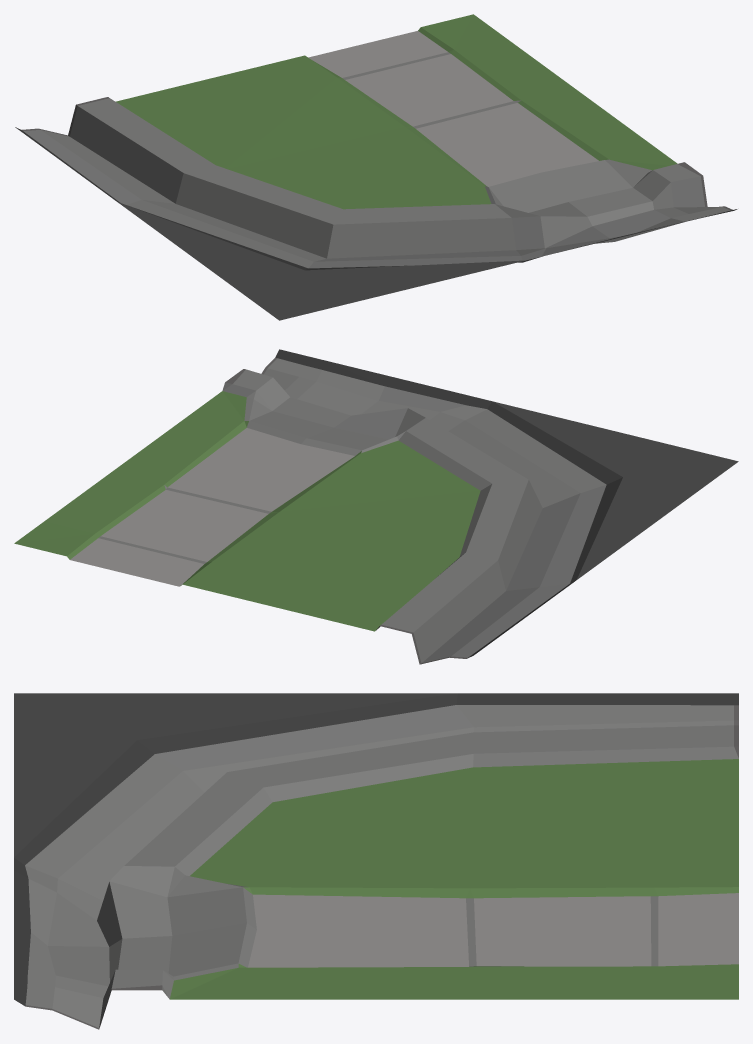
Rendered from SM_Env_Sidewalk_Corner_04.fbx.
The picture shows the model from 3 angles, top to bottom: view 1: azimuth 30°, elevation 25°; view 2: azimuth 150°, elevation 25°; view 3: azimuth 270°, elevation 25°; orthographic projection. The views are drawn at different scales.
Parts seen in each view (by area): view 1: SM_Env_Sidewalk_Corner_04; view 2: SM_Env_Sidewalk_Corner_04; view 3: SM_Env_Sidewalk_Corner_04.
Boxes of the visible parts, x1,y1,x2,y2 form: SM_Env_Sidewalk_Corner_04: [15, 14, 737, 320]; SM_Env_Sidewalk_Corner_04: [14, 349, 738, 664]; SM_Env_Sidewalk_Corner_04: [14, 693, 738, 1029].
Size of the model in its own units: 500 by 30 by 500.
